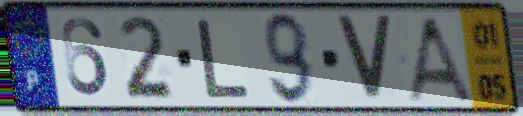2: (121, 14, 178, 103)
6: (59, 16, 112, 101)
9: (262, 9, 318, 108)
A: (403, 14, 477, 104)
L: (195, 16, 253, 100)
V: (332, 12, 396, 105)
